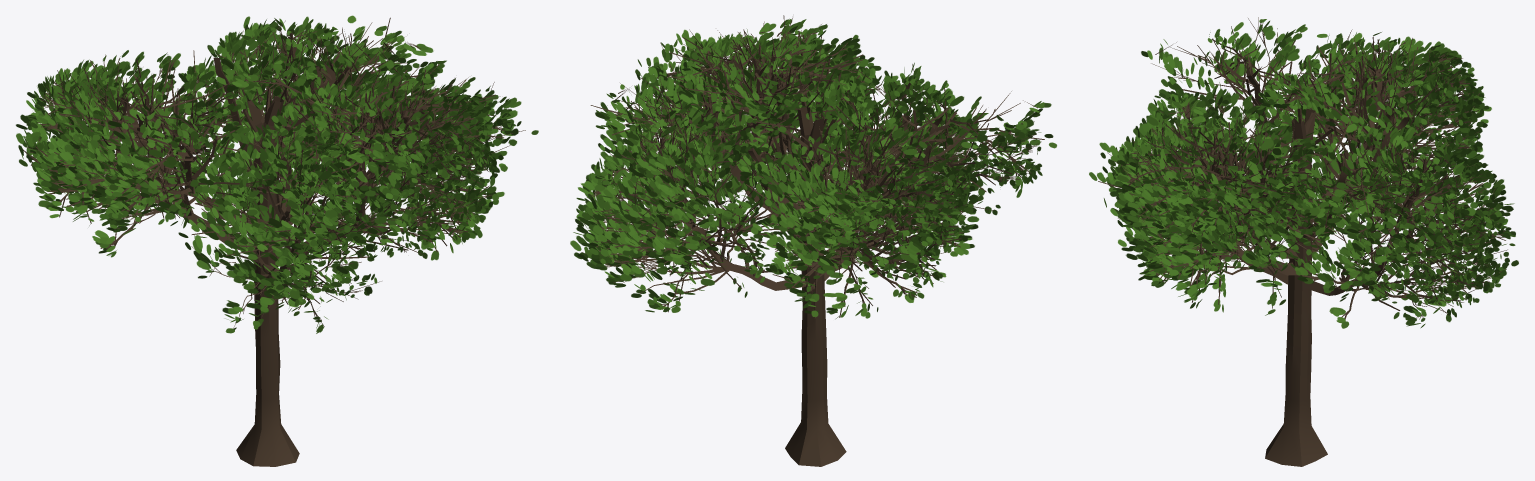
3 renders of one model, left to right at view 1: azimuth 30°, elevation 25°; view 2: azimuth 150°, elevation 25°; view 3: azimuth 270°, elevation 25°, orthographic. The views are drawn at different scales.
Parts seen in each view (by area): view 1: oak 01.001_trunk_Mat.001_0.151; view 2: oak 01.001_trunk_Mat.001_0.151; view 3: oak 01.001_trunk_Mat.001_0.151.
Boxes of the visible parts, x1=… form: oak 01.001_trunk_Mat.001_0.151: x1=16, y1=15, x2=538, y2=466; oak 01.001_trunk_Mat.001_0.151: x1=570, y1=15, x2=1056, y2=466; oak 01.001_trunk_Mat.001_0.151: x1=1089, y1=17, x2=1518, y2=466.
Bounding box in the file's own units: 5.3 × 4.38 × 4.8.
Materials: 2 (1 with a texture image).
